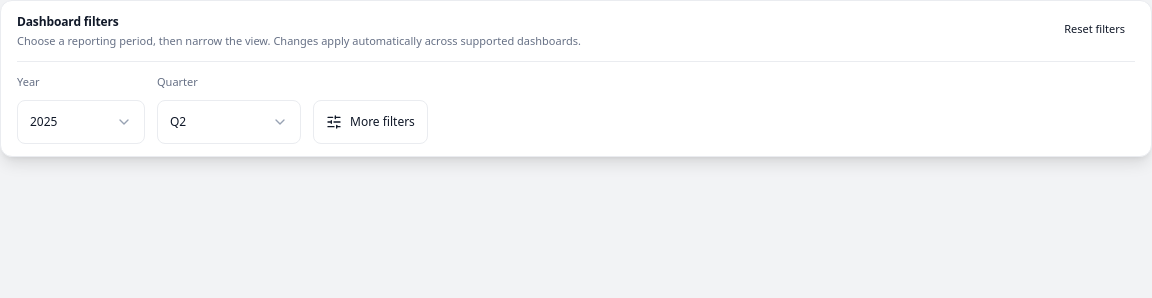
Test case: GlobalFilterBar › year/quarter tie › choosing "Custom range…" from the quarter dropdown reveals the date picker
Click the dropdown named "Quarter": (229, 122) [157,100,301,144]
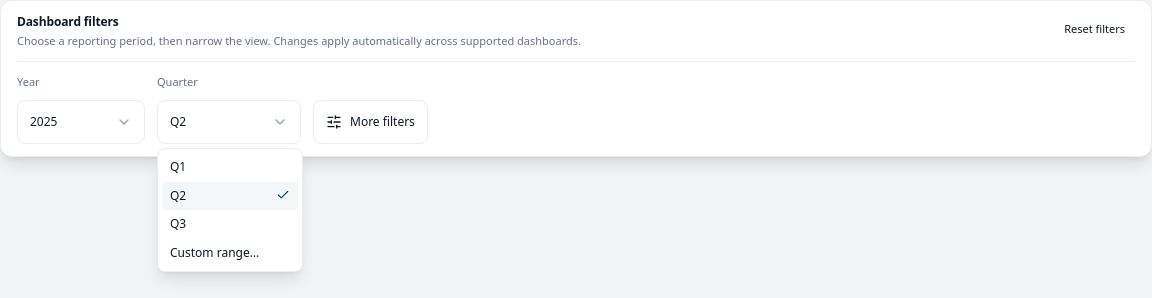
Click the option "Custom range…": (215, 252) [170,244,259,260]
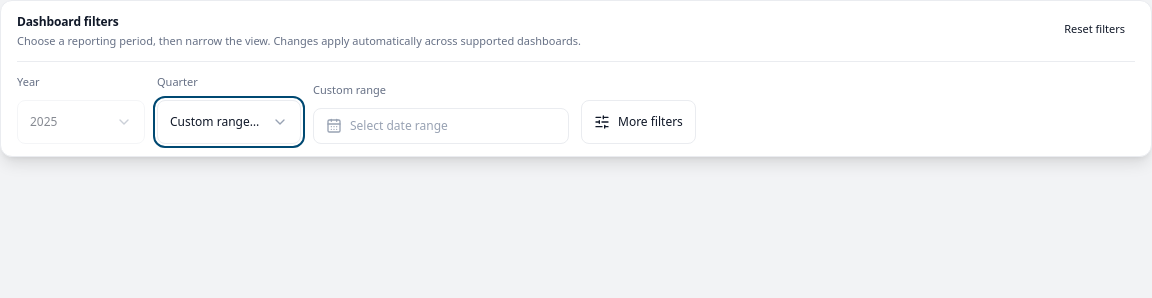
Expected: the button named "Custom range" is shown, [313,108,569,144]
Expected: the dropdown named "Year" is disabled, [17,100,145,144]
